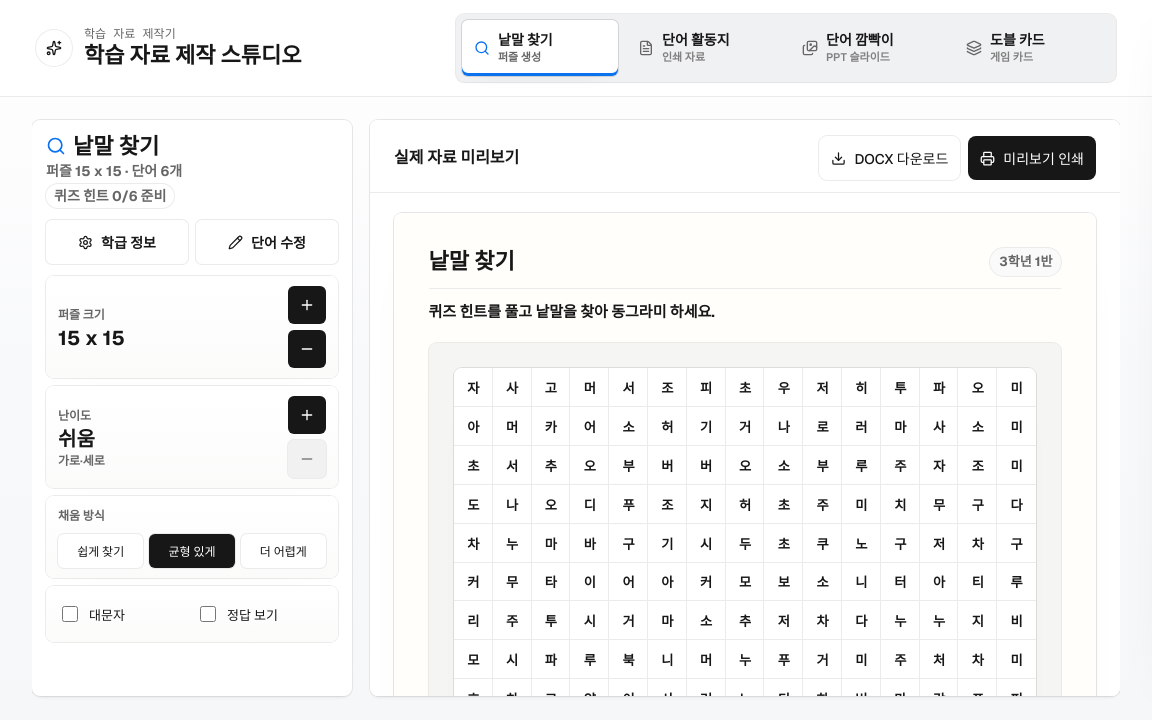
App › moves class information into a class information dialog
The width and height of the screenshot is (1152, 720).
Click the button with aria-label "학급 정보 수정". click: (117,242)
box: top-left (46, 220), bottom-right (188, 264)
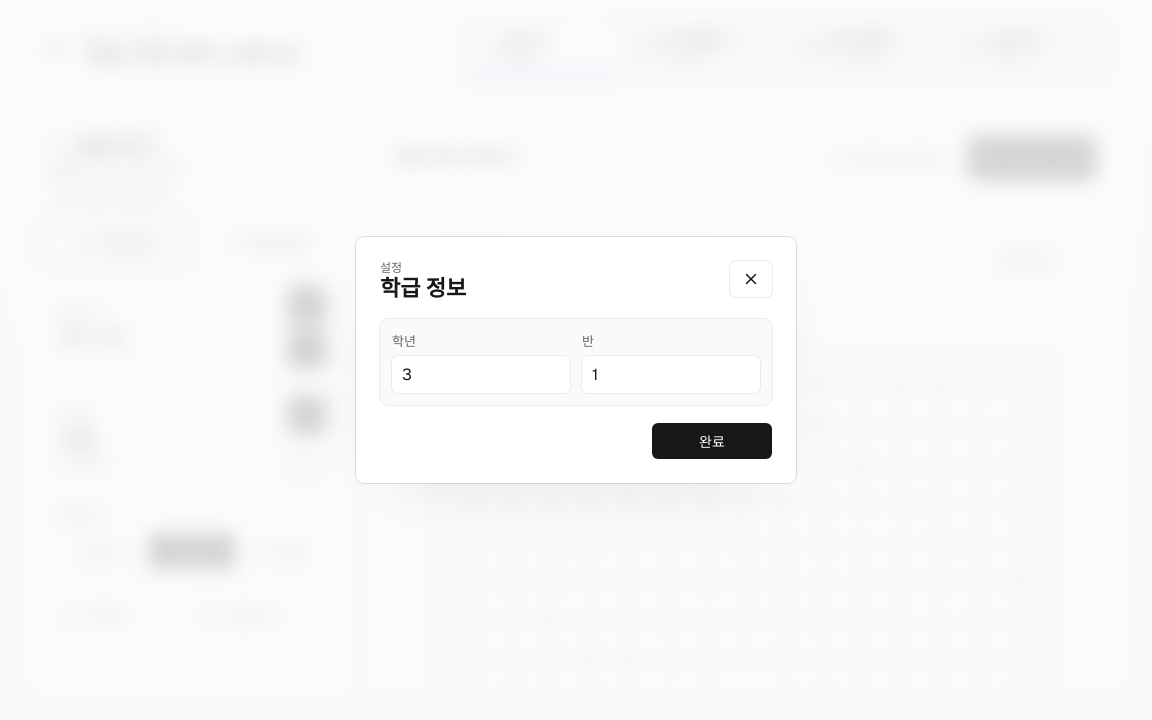
Replace the text in the number field labelled "학년" with "4". click: (481,375)
box: top-left (392, 356), bottom-right (570, 393)
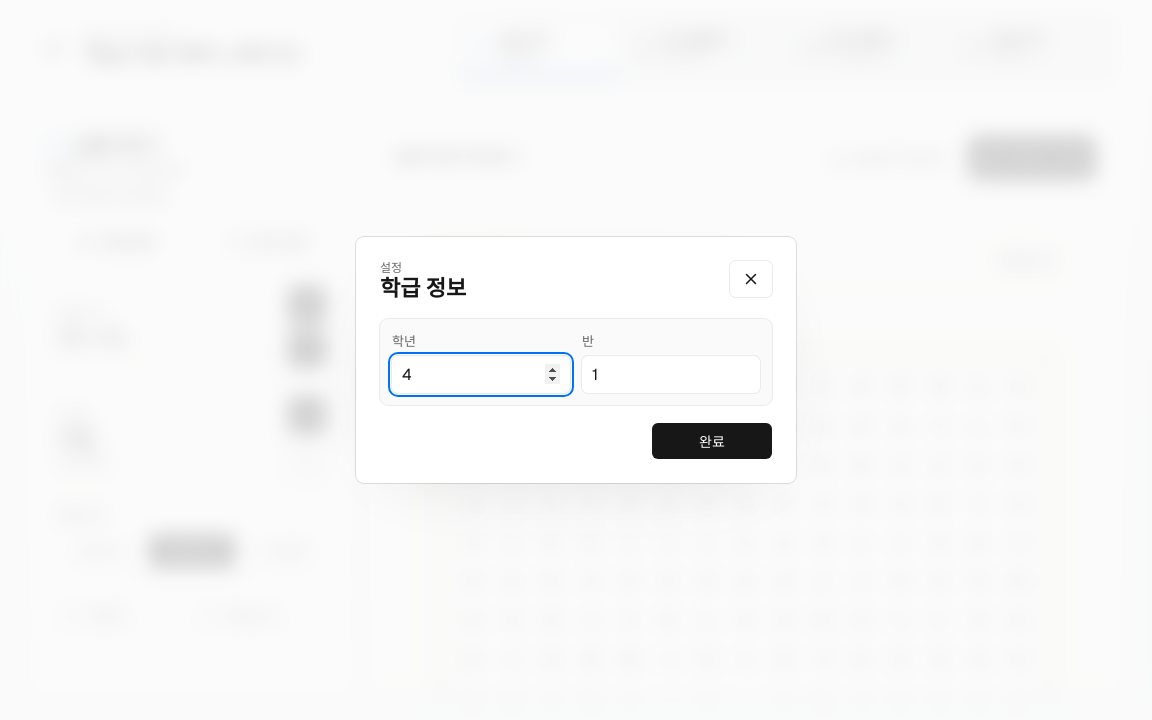
Replace the text in the number field labelled "반" with "2". click: (671,375)
box: top-left (582, 356), bottom-right (760, 393)
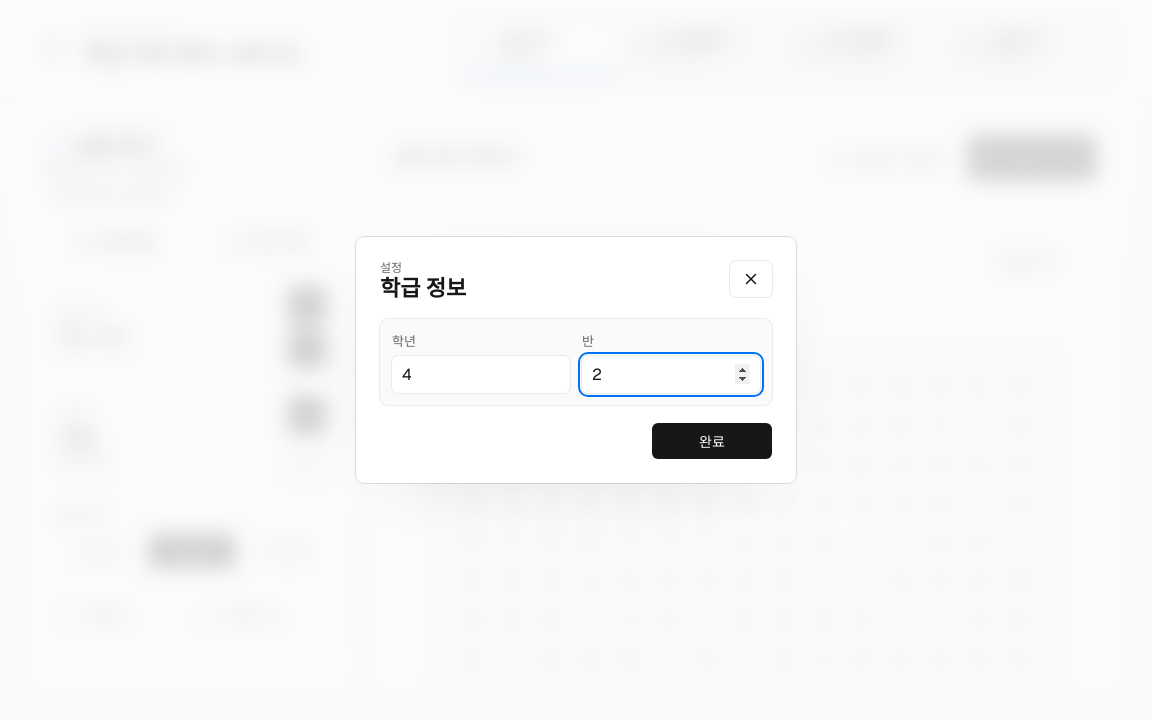
Click the button "완료". click: (712,441)
box: top-left (652, 423), bottom-right (772, 459)
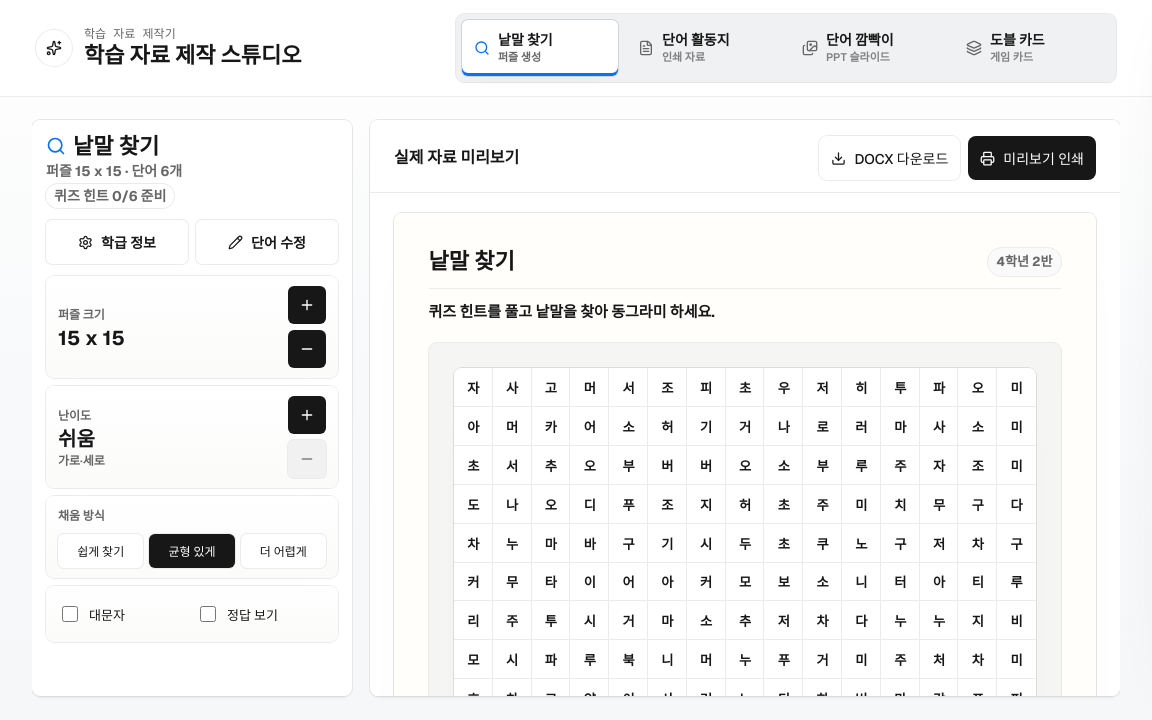
Expected: the text named "학생 정보" reads "4학년 2반", top-left (988, 248), bottom-right (1062, 276)
